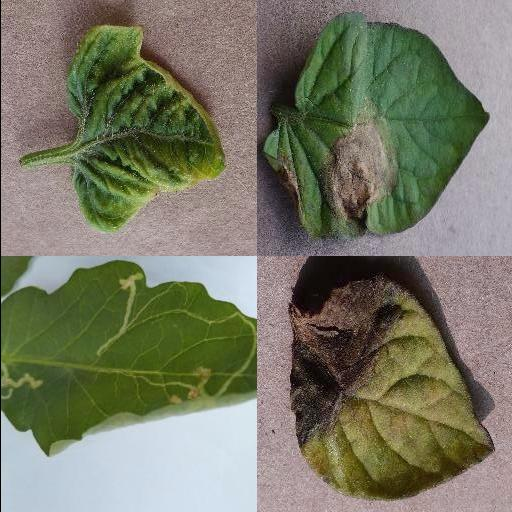Late Blight: (257, 11, 491, 243), (287, 276, 495, 502)
Leaf Miner: (0, 260, 256, 456)
Yellow Leaf Curl Virus: (63, 23, 227, 237)
